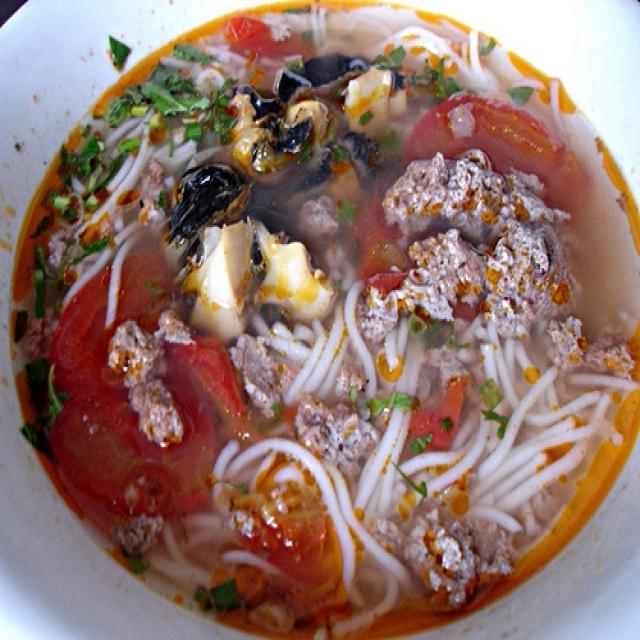面条主食: (11, 17, 624, 628)
